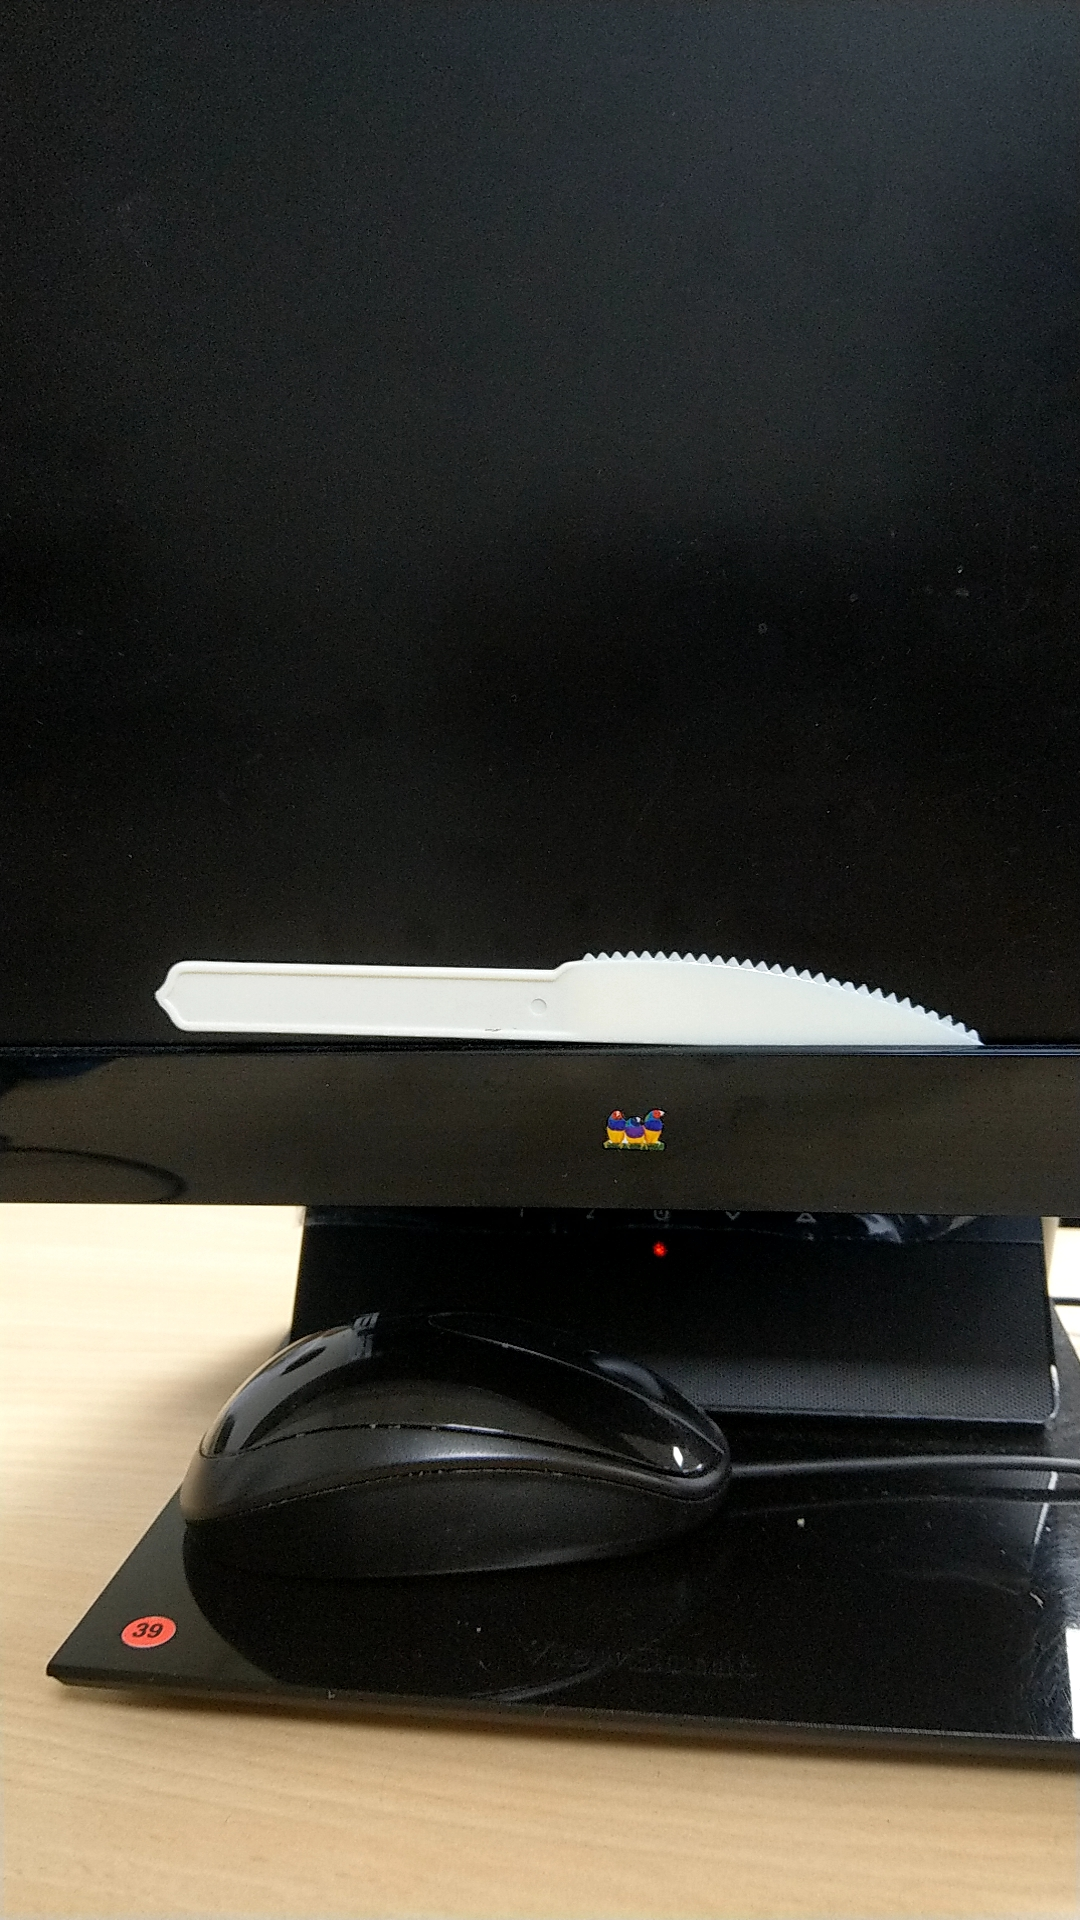knife: (137, 932, 992, 1058)
